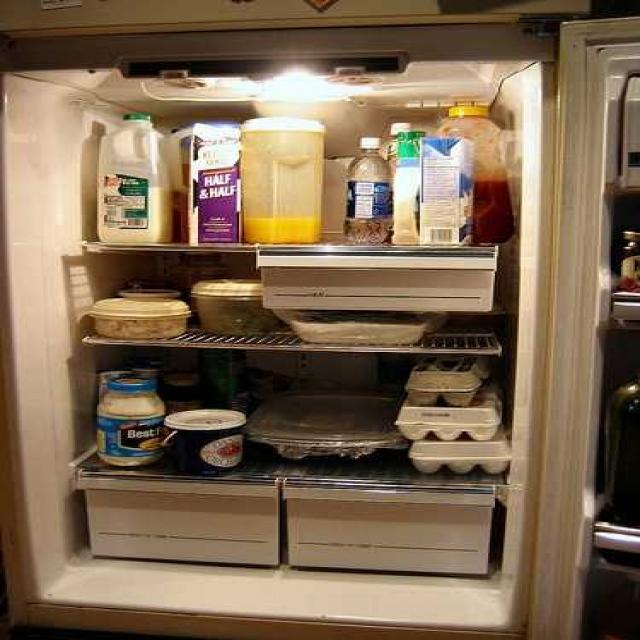refrigerator: (7, 16, 640, 628)
